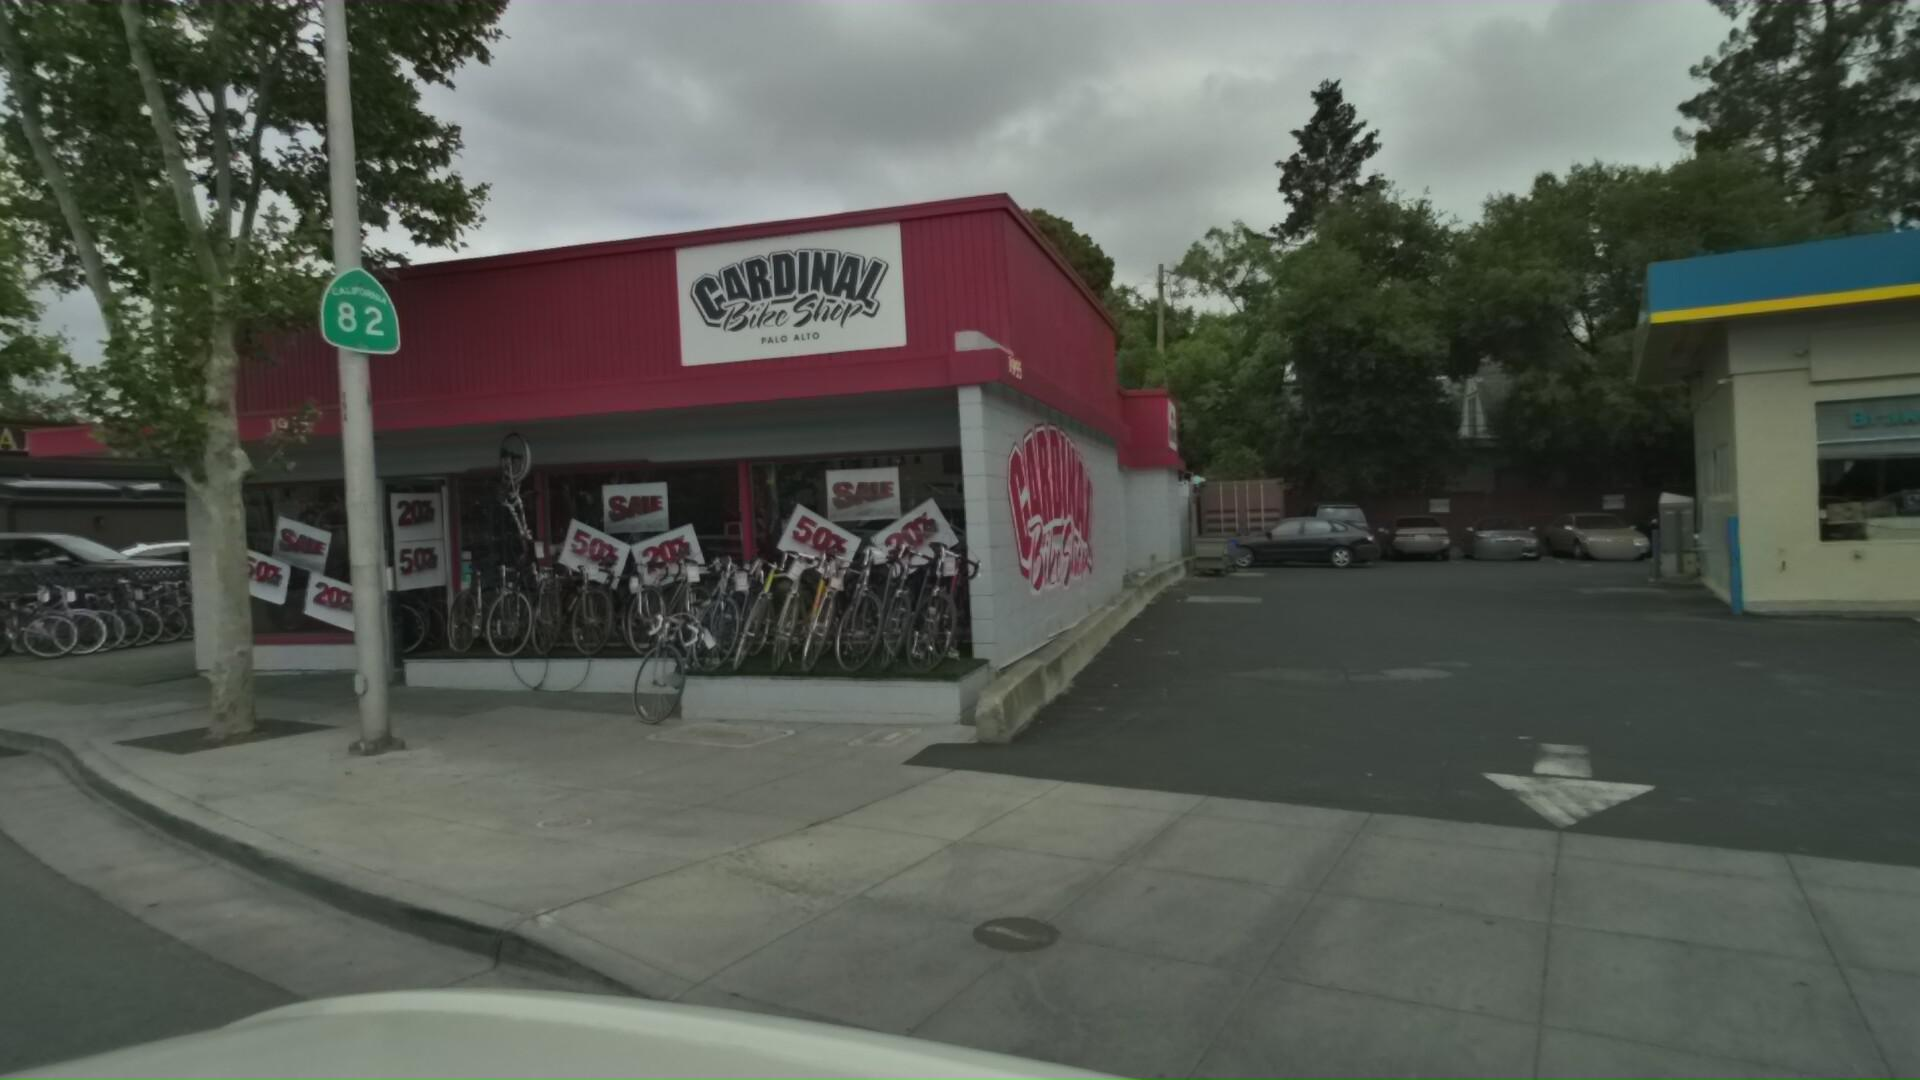bicycle: (671, 568, 789, 733), (717, 534, 829, 692), (757, 527, 864, 686), (789, 526, 891, 684), (829, 524, 928, 686), (877, 524, 969, 684), (676, 525, 787, 655), (913, 521, 1000, 684), (632, 527, 738, 657), (953, 520, 1036, 684), (589, 529, 691, 657), (547, 531, 644, 657), (8, 558, 127, 658), (509, 533, 601, 659), (471, 530, 559, 655), (0, 564, 105, 662), (40, 570, 149, 655), (65, 568, 173, 651), (88, 566, 194, 647), (111, 564, 215, 645), (131, 564, 233, 644), (152, 562, 252, 640), (174, 560, 272, 637), (195, 559, 291, 632), (211, 559, 306, 629), (229, 560, 323, 626)
car: (0, 520, 232, 646), (61, 527, 345, 618), (1241, 504, 1402, 568), (1644, 495, 1784, 560), (1548, 501, 1676, 560), (1307, 495, 1396, 562), (1462, 506, 1563, 558), (1387, 506, 1474, 558)
